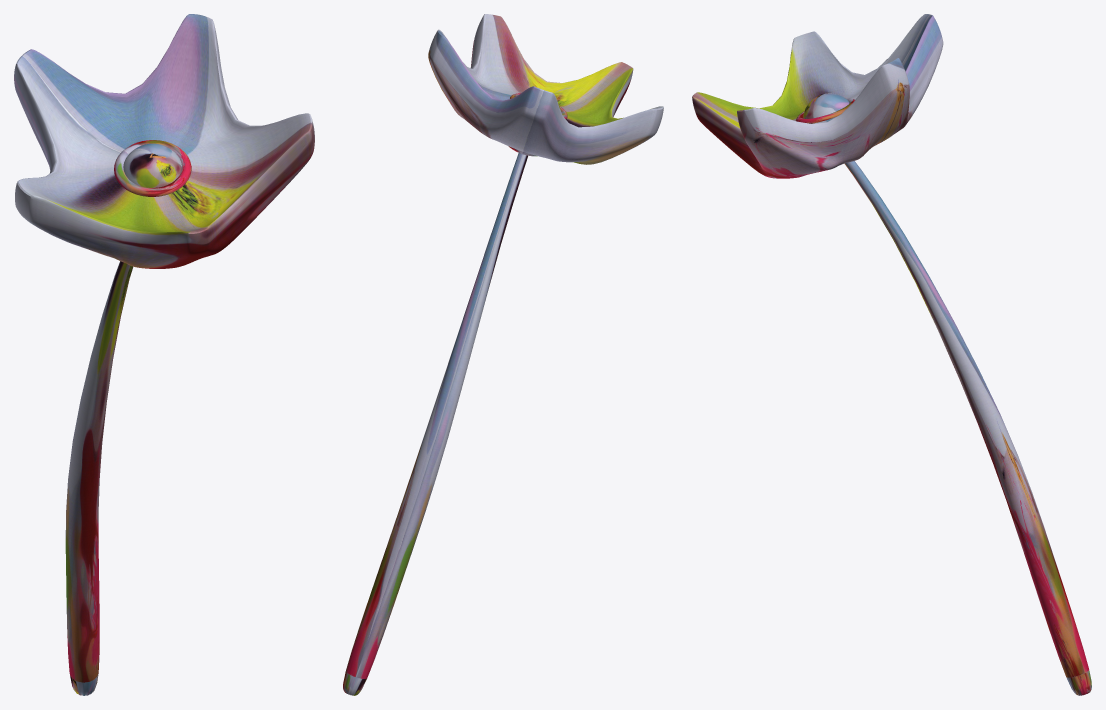
The model's file is stemflower.gltf.
The picture shows the model from 3 angles, left to right: view 1: azimuth 30°, elevation 25°; view 2: azimuth 150°, elevation 25°; view 3: azimuth 270°, elevation 25°; orthographic projection. The views are drawn at different scales.
Parts seen in each view (by area): view 1: stemflower; view 2: stemflower; view 3: stemflower.
Boxes of the visible parts, left/top/right/bottom form: stemflower: left=14, top=14, right=314, bottom=695; stemflower: left=343, top=14, right=663, bottom=695; stemflower: left=692, top=14, right=1091, bottom=695.
Size of the model in its own units: 4.09 by 11.28 by 6.44.
Materials: 1 (1 with a texture image).
